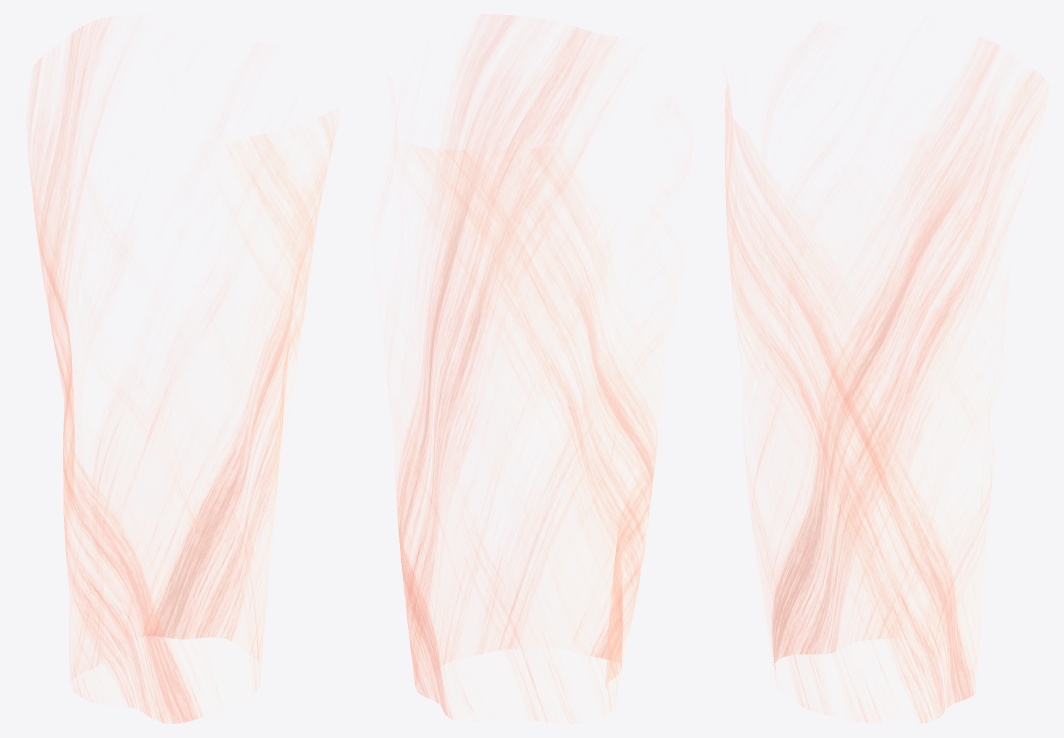
Rendered from devil_mid_2.glb.
3 renders of one model, left to right at view 1: azimuth 30°, elevation 25°; view 2: azimuth 150°, elevation 25°; view 3: azimuth 270°, elevation 25°, orthographic.
Visible parts, largest first — view 1: devil_mid_2; view 2: devil_mid_2; view 3: devil_mid_2.
Boxes of the visible parts, bbox=[...] form: devil_mid_2: bbox=[26, 17, 338, 723]; devil_mid_2: bbox=[387, 14, 691, 723]; devil_mid_2: bbox=[725, 38, 1049, 723].
Bounding box in the file's own units: 9.28 × 20 × 9.88.
Materials: 1 (1 with a texture image).
